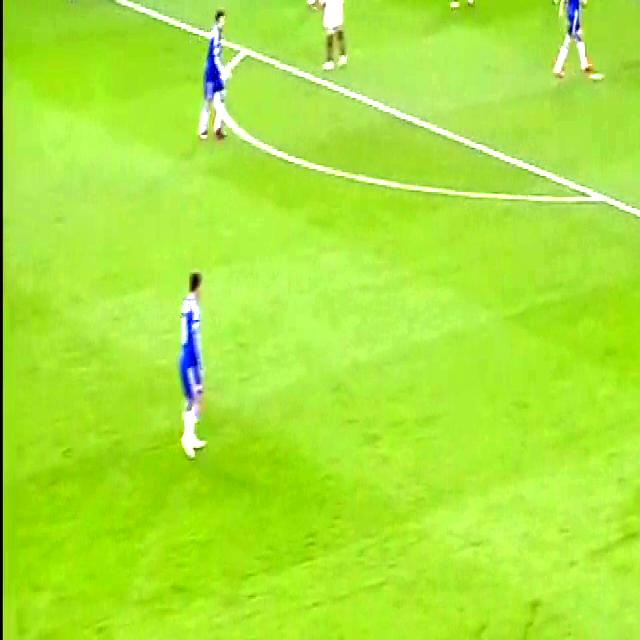soccer-player: (163, 261, 221, 464), (544, 0, 610, 91), (201, 2, 231, 148), (318, 0, 359, 76), (443, 0, 484, 12), (51, 0, 92, 9), (301, 0, 338, 9), (548, 0, 585, 7)
